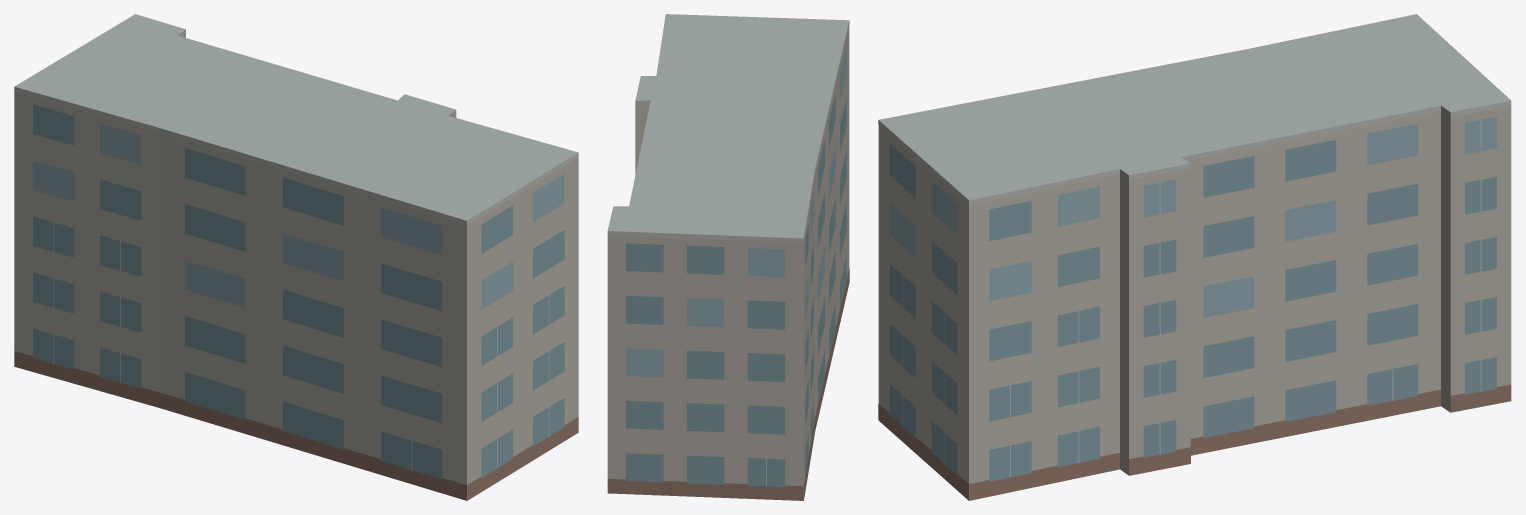
File: survey-upis-33021306.glb
3 renders of one model, left to right at view 1: azimuth 30°, elevation 25°; view 2: azimuth 150°, elevation 25°; view 3: azimuth 270°, elevation 25°, orthographic. The views are drawn at different scales.
Parts seen in each view (by area): view 1: survey-upis-33021306.tmp; view 2: survey-upis-33021306.tmp; view 3: survey-upis-33021306.tmp.
Part boxes in pixels (box(x1,y1,x2,y2)): survey-upis-33021306.tmp: box(14, 14, 578, 500); survey-upis-33021306.tmp: box(607, 14, 849, 500); survey-upis-33021306.tmp: box(878, 14, 1511, 500).
Bounding box in the file's own units: 19.23 × 14.45 × 27.59.
